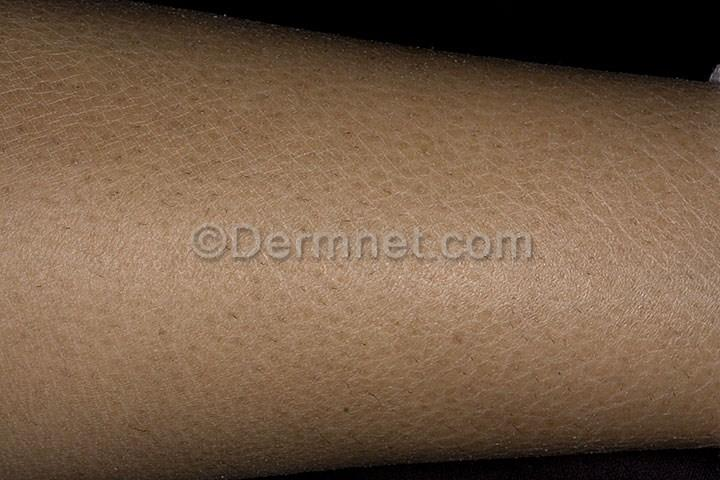liquenificacion 1: (0, 0, 716, 474)
xerosis 1: (0, 7, 714, 471)
